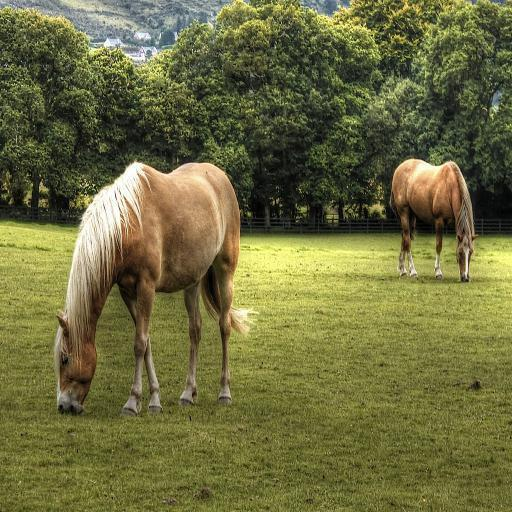horse: (54, 162, 256, 421), (386, 160, 480, 280)
